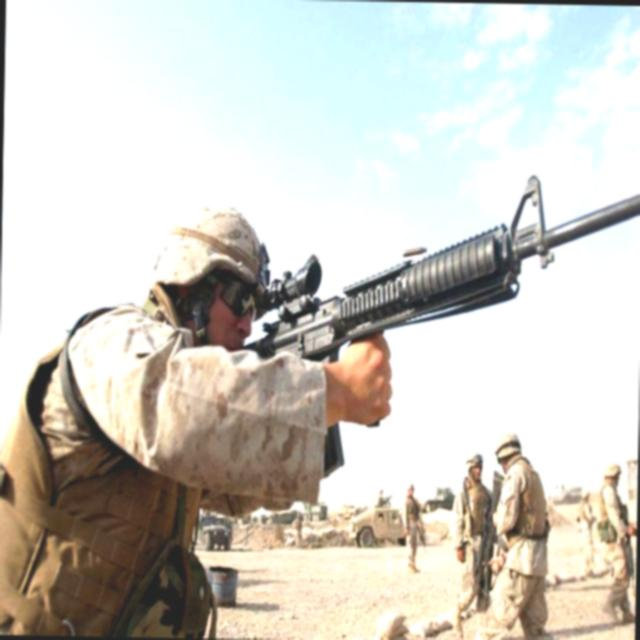m16: (240, 142, 640, 530)
